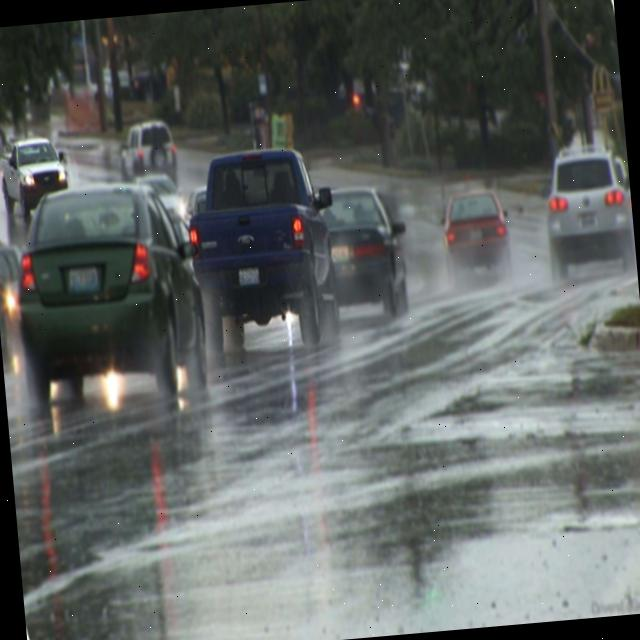car: (1, 175, 213, 412), (180, 142, 344, 358), (318, 180, 414, 322), (540, 143, 636, 283), (0, 136, 72, 229), (437, 187, 513, 275), (121, 118, 178, 182)
